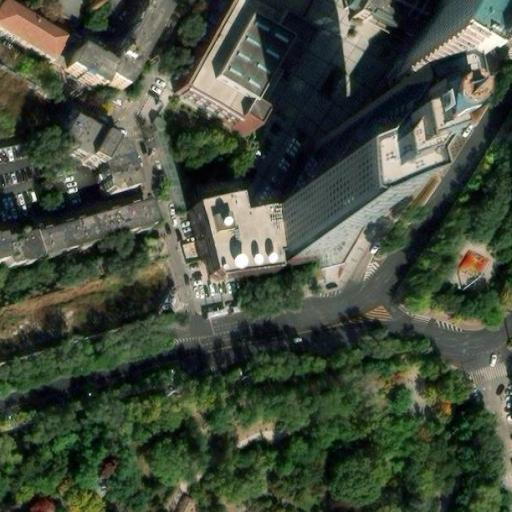building: (288, 130, 401, 270), (188, 0, 297, 119), (208, 198, 293, 278), (51, 120, 130, 193), (388, 78, 444, 153), (369, 0, 452, 49), (0, 0, 69, 56), (84, 208, 150, 250), (29, 222, 91, 263), (316, 244, 356, 279), (95, 452, 120, 480), (24, 494, 56, 512)
